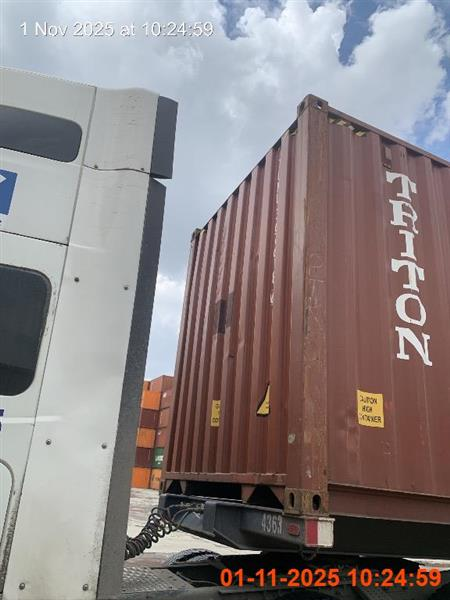scratch: (158, 96, 449, 567)
